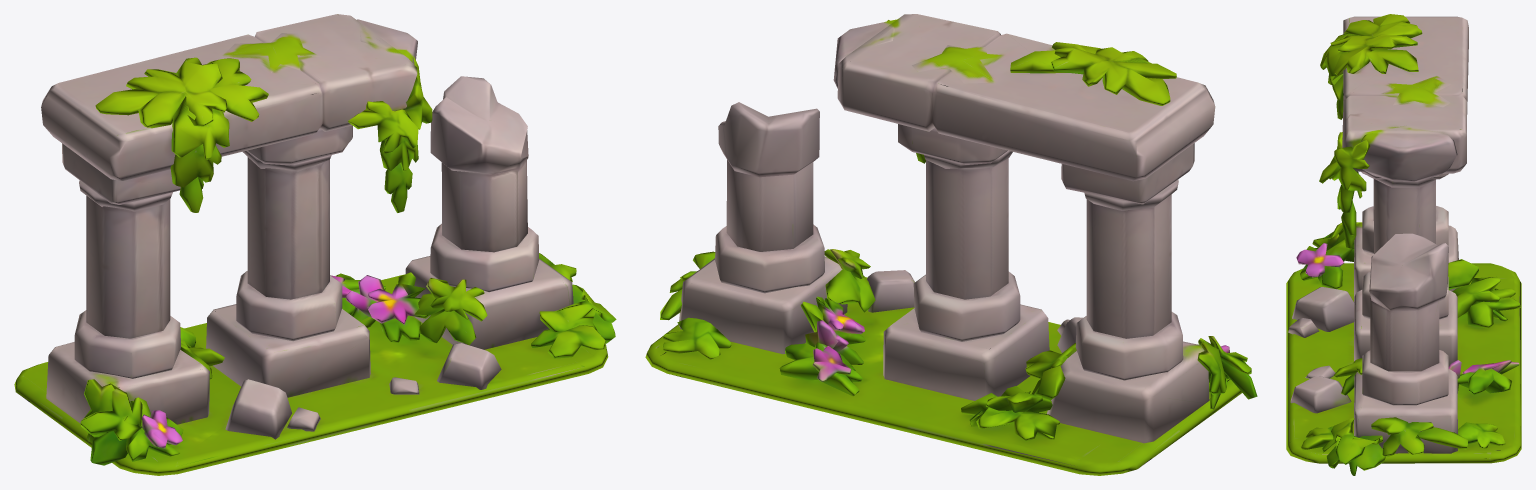
The model's file is RuinColonnade.glb.
3 views of the same model, side by side, from view 1: azimuth 30°, elevation 25°; view 2: azimuth 150°, elevation 25°; view 3: azimuth 270°, elevation 25° (orthographic). The views are drawn at different scales.
Visible parts, largest first — view 1: geometry_0; view 2: geometry_0; view 3: geometry_0.
Part boxes in pixels (x1=…): geometry_0: x1=14, y1=14, x2=616, y2=475; geometry_0: x1=645, y1=14, x2=1257, y2=475; geometry_0: x1=1286, y1=14, x2=1521, y2=475.
Bounding box in the file's own units: 0.9585 × 0.5957 × 0.4438.
Materials: 1 (1 with a texture image).
